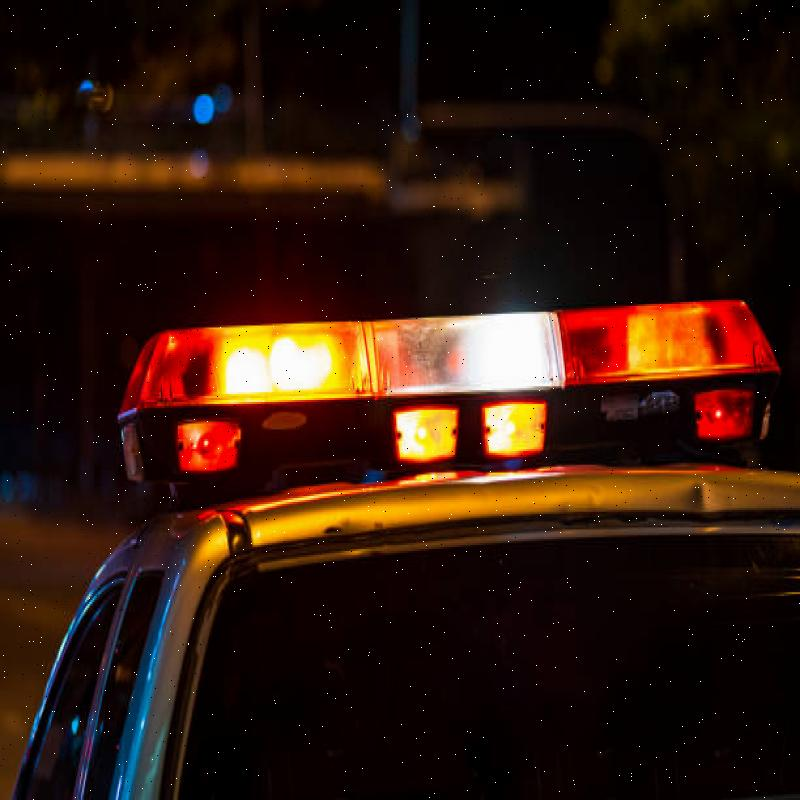AmbulanceSiren: (86, 264, 800, 533)
